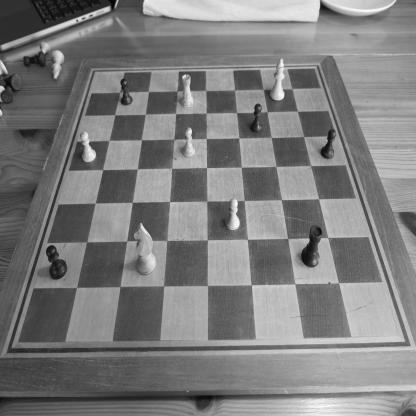black-pawn: (45, 244, 67, 280), (320, 128, 336, 160), (250, 103, 263, 133), (120, 78, 133, 106)
black-rook: (301, 225, 323, 268), (23, 51, 46, 68)
white-bishop: (270, 58, 286, 101), (50, 50, 67, 81)
white-knight: (133, 222, 156, 276)
white-pawn: (79, 131, 97, 164), (225, 198, 240, 231), (182, 126, 195, 158)
white-rook: (181, 74, 194, 108)
